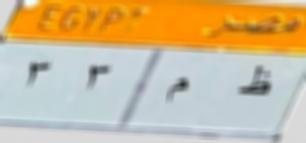3: (79, 58, 120, 92), (25, 56, 53, 87)
Thaa: (238, 60, 273, 105)
meem: (161, 72, 192, 112)
